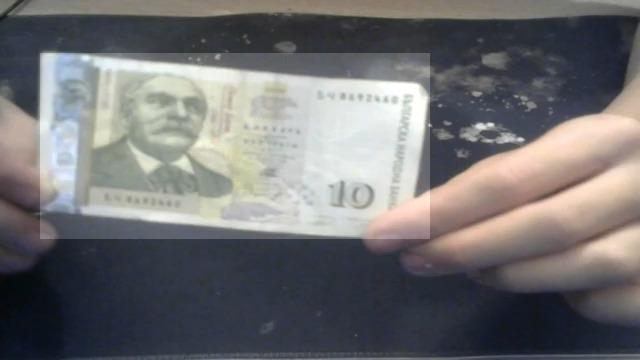10leva: (40, 53, 430, 239)
